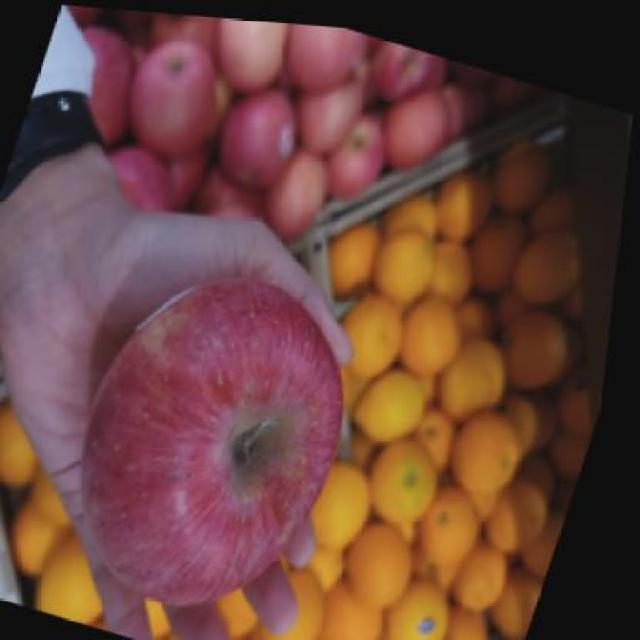Fresh Apple: (83, 289, 331, 605)
